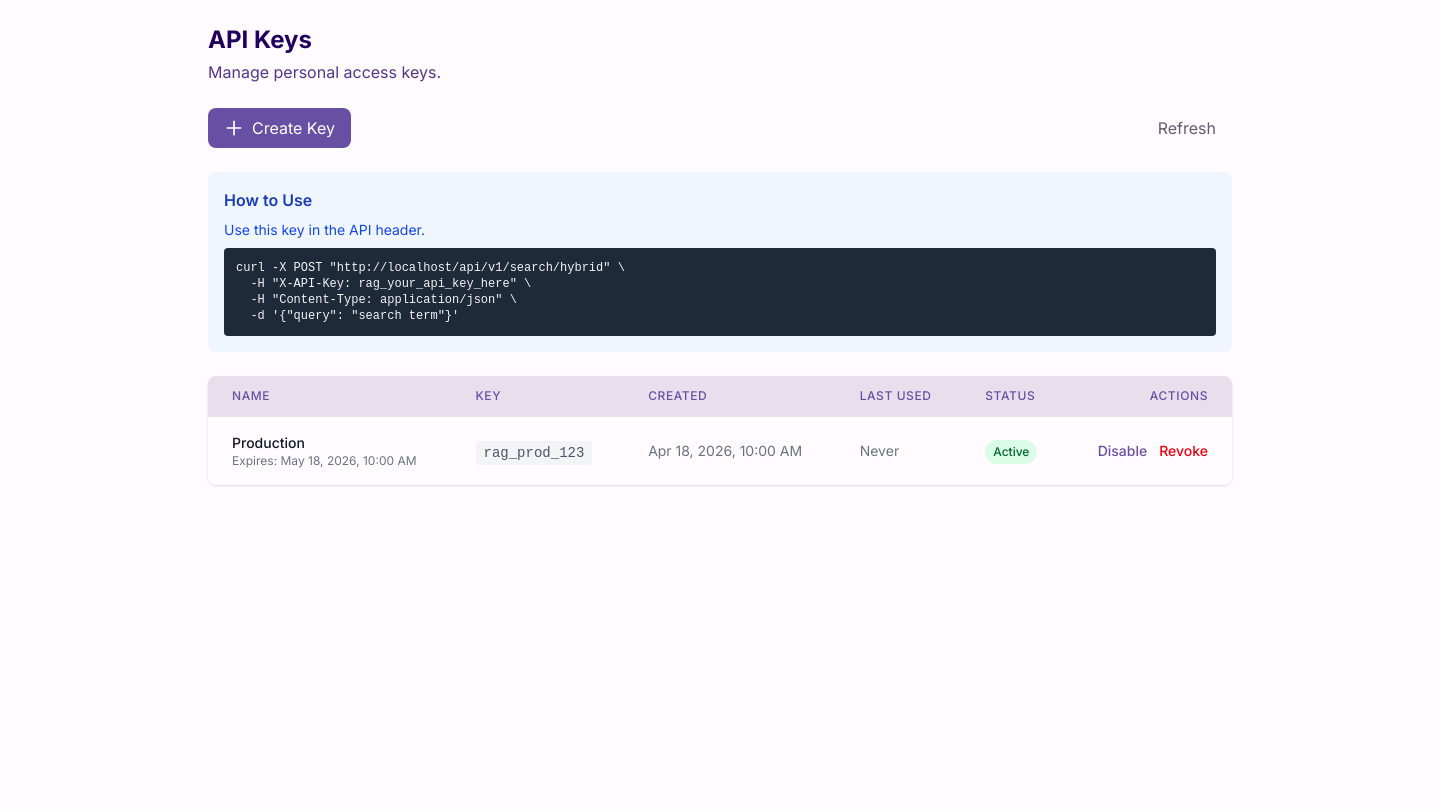
Test case: APIKeysPage › creates a key, shows the created secret, and copies it to the clipboard
Expected: the text "Production" is shown, x1=232 y1=434 x2=305 y2=451
Click the button "Create Key" at (280, 128), box x1=208 y1=108 x2=351 y2=148
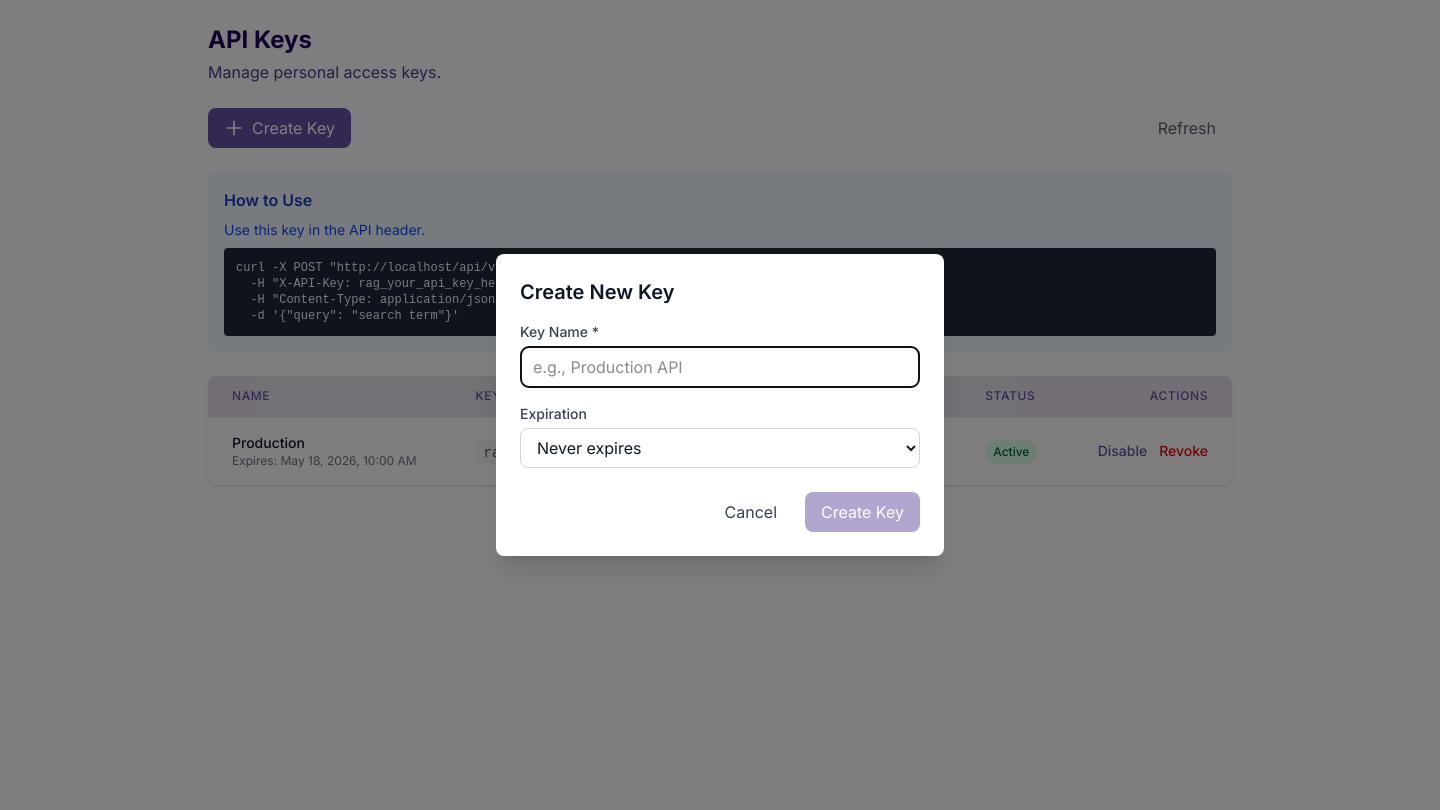
Type "  Automation Key  " into the field with placeholder "e.g., Production API" at (720, 367), box x1=520 y1=346 x2=920 y2=388
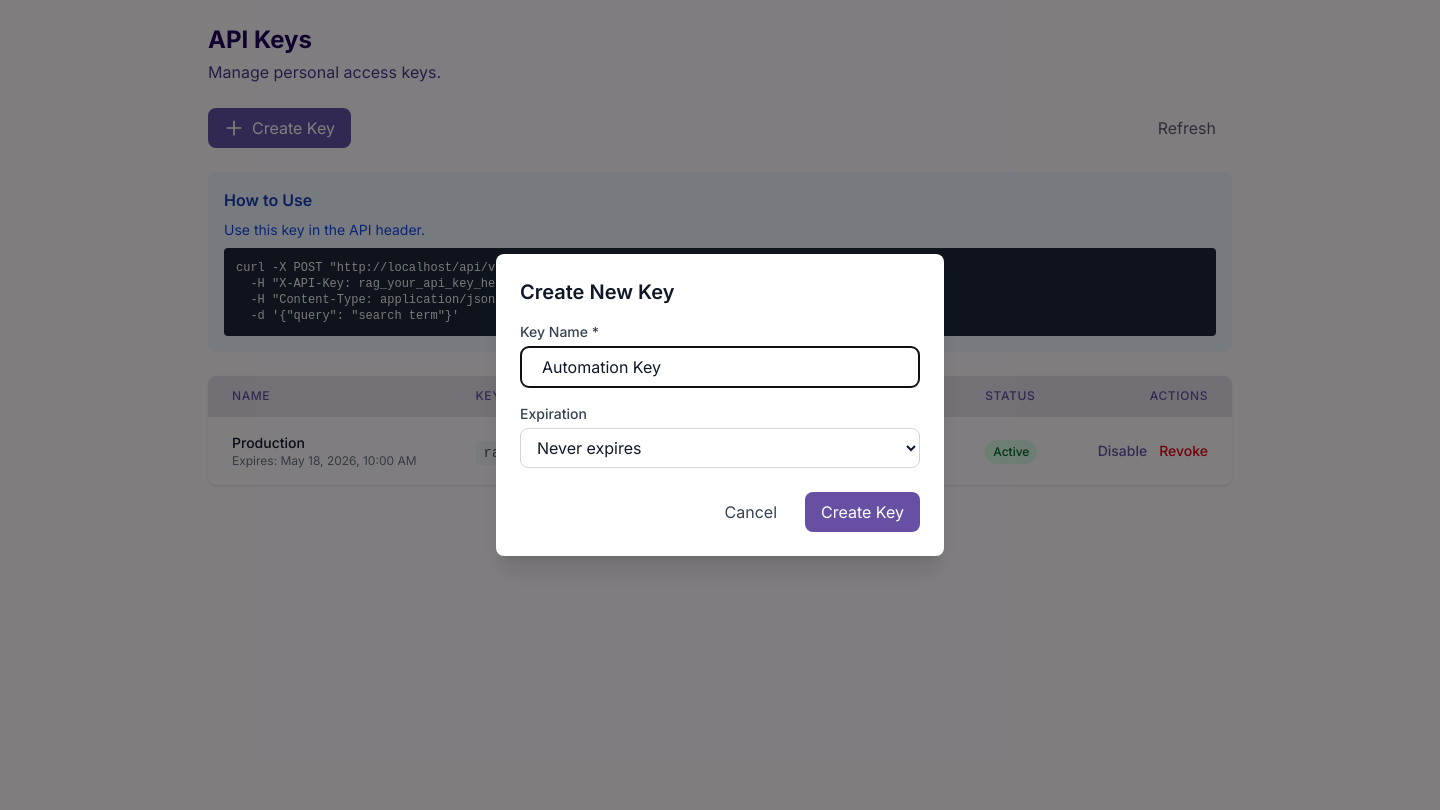
Select "30 days" in the dropdown at (720, 448), box x1=520 y1=428 x2=920 y2=468
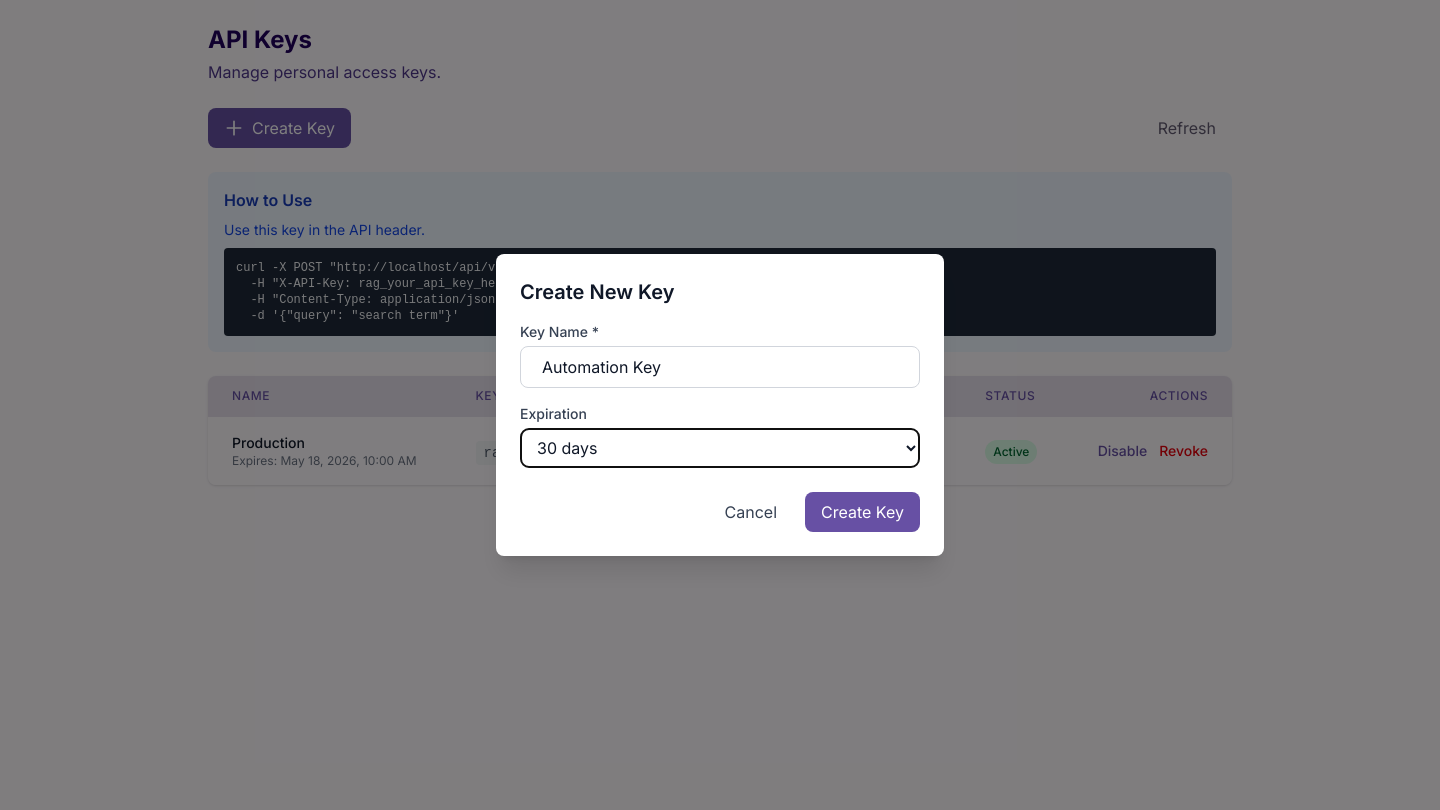
Click the button "Create Key" at (862, 512), box x1=805 y1=492 x2=920 y2=532
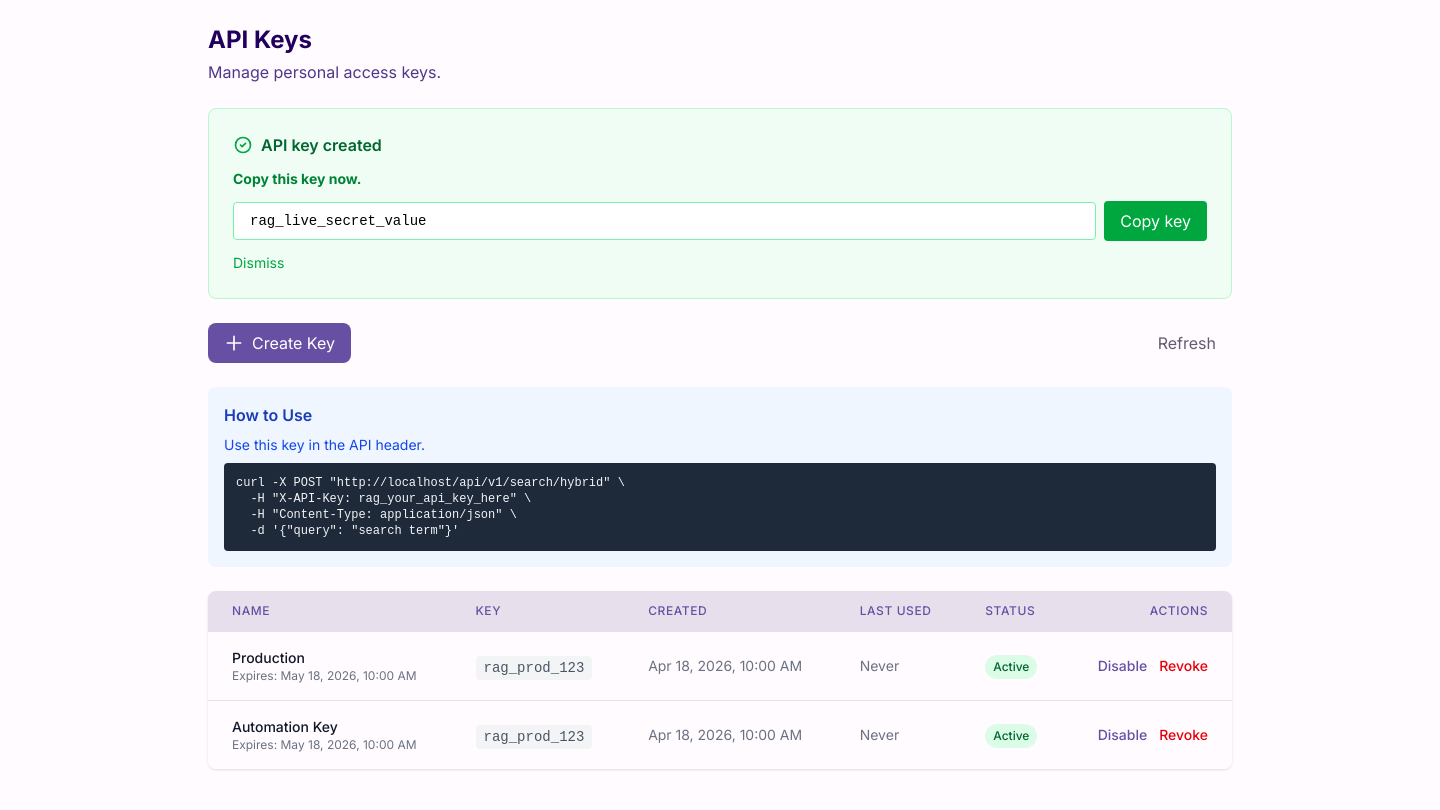
Expected: the heading "API key created" is shown, x1=261 y1=133 x2=382 y2=157
Expected: the text "rag_live_secret_value" is shown, x1=233 y1=202 x2=1096 y2=240
Expected: the heading "Create New Key" is gone
Click the button "Copy key" at (1156, 221), box x1=1104 y1=201 x2=1207 y2=241
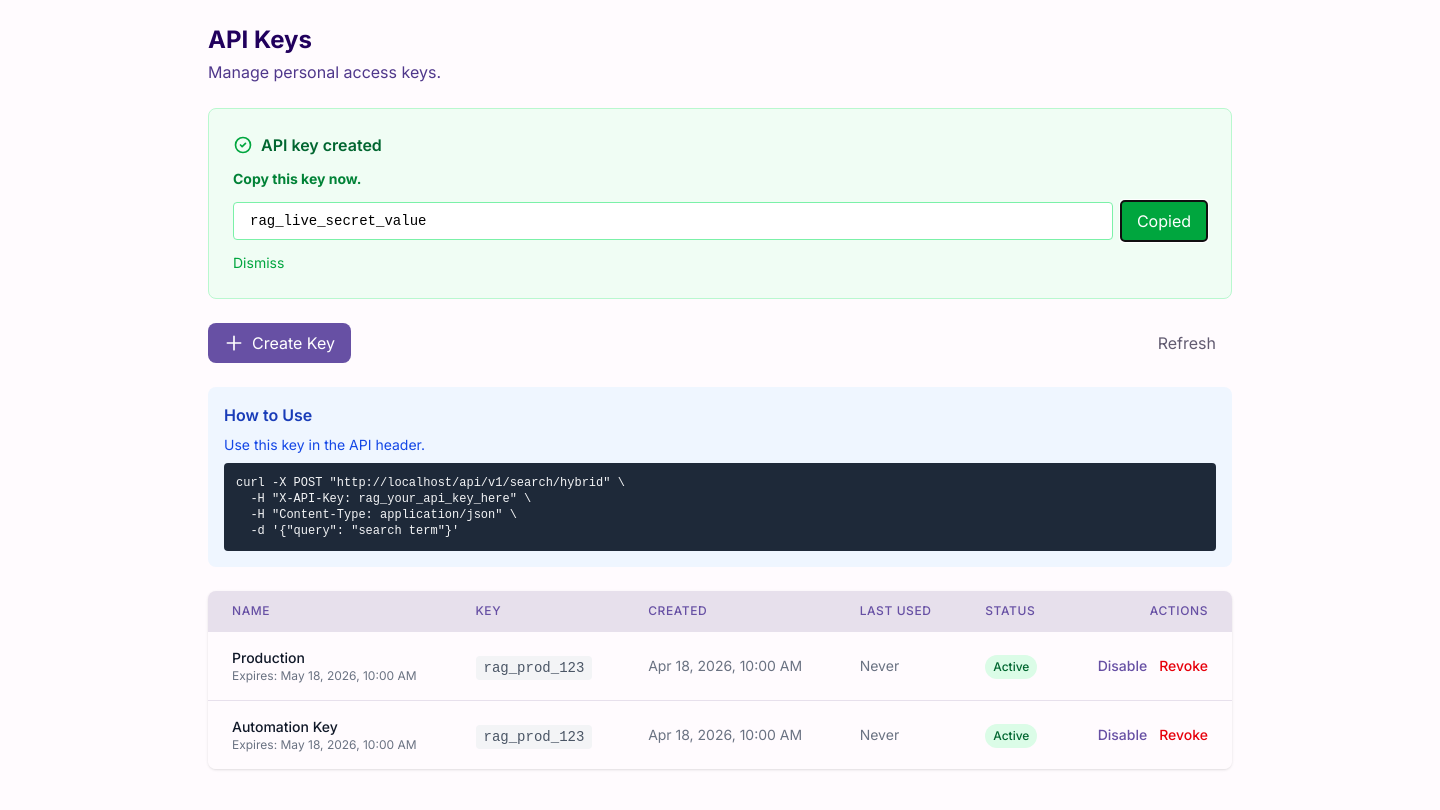
Expected: the button "Copied" is shown, x1=1121 y1=201 x2=1207 y2=241
Click the button "Dismiss" at (259, 263), box x1=233 y1=253 x2=284 y2=273
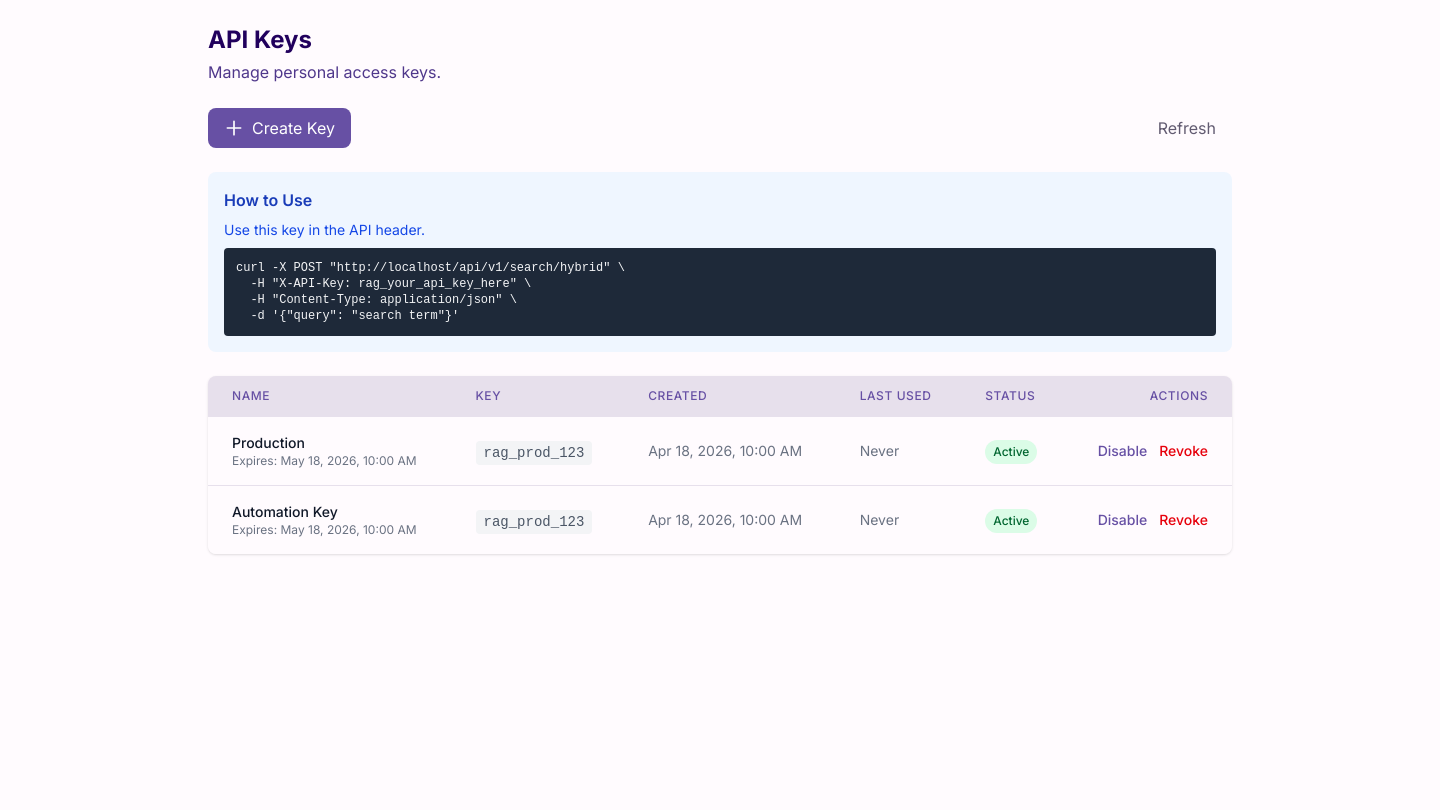
Expected: the heading "API key created" is gone
